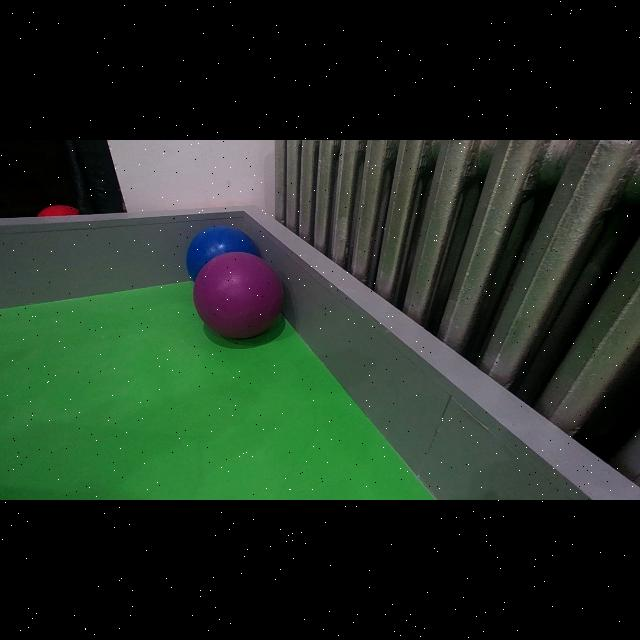B: (187, 226, 260, 282)
P: (193, 252, 283, 338)
